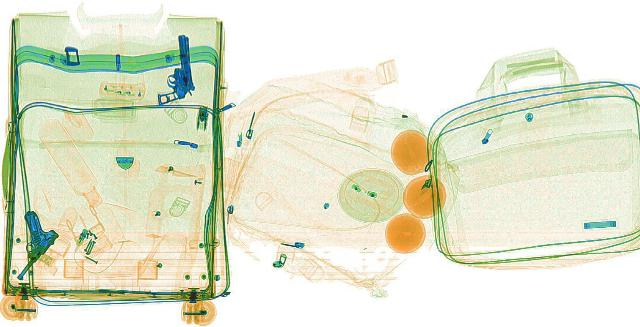Gun: (0, 217, 63, 278), (153, 33, 193, 102)
